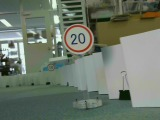speed_20: (61, 23, 95, 55)
